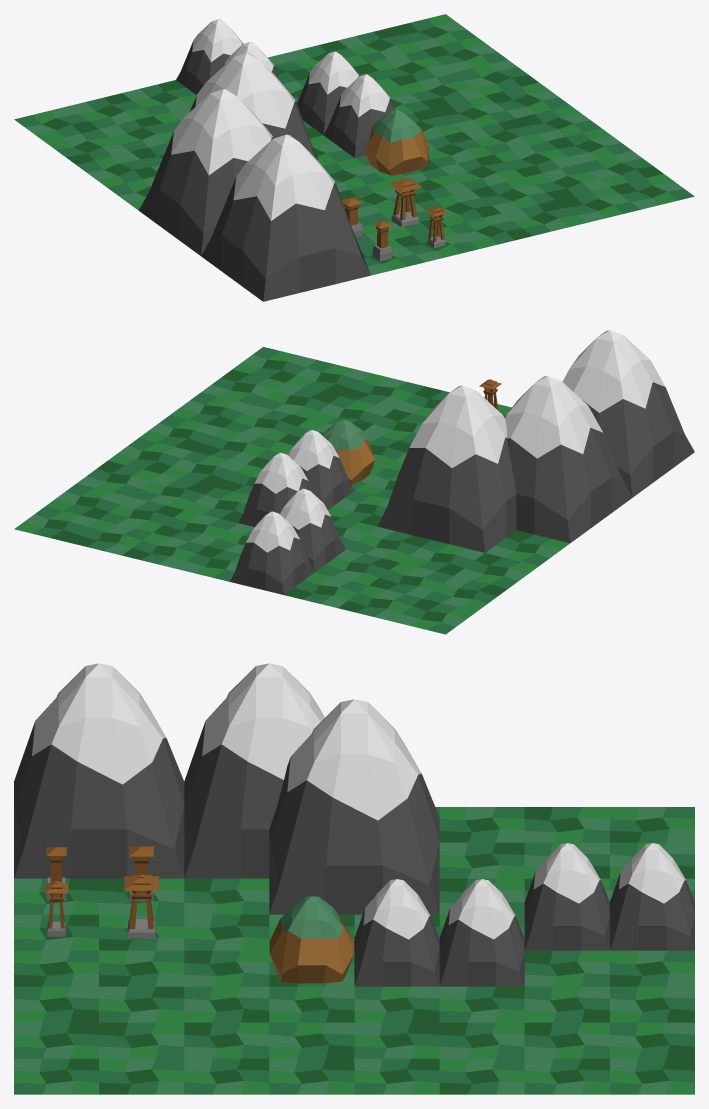
File: SizeReference.fbx
3 renders of one model, top to bottom at view 1: azimuth 30°, elevation 25°; view 2: azimuth 150°, elevation 25°; view 3: azimuth 270°, elevation 25°, orthographic. The views are drawn at different scales.
Visible parts, largest first — view 1: MountainTriple_4.004, MountainTriple_4.002, MountainTriple_4.003, Mountain_4.003, Boulder, Mountain_4.004, Mountain_4.006, GrassFlatMixed.046, GrassFlatMixed.053, GrassFlatMixed.059, GrassFlatMixed.028, GrassFlatMixed.035 (+43 smaller); view 2: MountainTriple_4.003, MountainTriple_4.002, MountainTriple_4.004, Mountain_4.006, Mountain_4.005, Mountain_4.003, Mountain_4.004, Boulder, GrassFlatMixed.062, GrassFlatMixed.020, GrassFlatMixed.029, GrassFlatMixed.030 (+38 smaller); view 3: MountainTriple_4.004, MountainTriple_4.003, MountainTriple_4.002, Mountain_4.005, Mountain_4.004, Mountain_4.003, Mountain_4.006, Boulder, GrassFlatMixed.035, GrassFlatMixed.061, GrassFlatMixed.062, GrassFlatMixed.010 (+41 smaller).
Part boxes in pixels (x1,y1,x2,y2): MountainTriple_4.004: [201, 134, 370, 301]; MountainTriple_4.002: [139, 89, 273, 255]; MountainTriple_4.003: [190, 53, 318, 161]; Mountain_4.003: [323, 74, 394, 157]; Boulder: [365, 109, 428, 175]; Mountain_4.004: [297, 51, 359, 134]; Mountain_4.006: [176, 19, 243, 94]; GrassFlatMixed.046: [338, 27, 422, 62]; GrassFlatMixed.053: [471, 177, 555, 212]; GrassFlatMixed.059: [548, 128, 632, 163]; GrassFlatMixed.028: [14, 106, 98, 141]; GrassFlatMixed.035: [485, 82, 569, 118]; MountainTriple_4.003: [377, 385, 516, 552]; MountainTriple_4.002: [505, 376, 632, 543]; MountainTriple_4.004: [562, 330, 694, 497]; Mountain_4.006: [230, 511, 314, 594]; Mountain_4.005: [280, 488, 345, 571]; Mountain_4.003: [288, 430, 354, 509]; Mountain_4.004: [238, 452, 313, 526]; Boulder: [323, 419, 374, 484]; GrassFlatMixed.062: [193, 428, 277, 464]; GrassFlatMixed.020: [454, 553, 538, 588]; GrassFlatMixed.029: [338, 585, 422, 621]; GrassFlatMixed.030: [284, 572, 368, 608]; MountainTriple_4.004: [14, 663, 184, 878]; MountainTriple_4.003: [269, 699, 439, 914]; MountainTriple_4.002: [184, 663, 324, 878]; Mountain_4.005: [524, 843, 609, 950]; Mountain_4.004: [439, 879, 524, 986]; Mountain_4.003: [354, 879, 439, 986]; Mountain_4.006: [610, 843, 694, 950]; Boulder: [269, 896, 354, 983]; GrassFlatMixed.035: [354, 1058, 439, 1094]; GrassFlatMixed.061: [269, 986, 354, 1022]; GrassFlatMixed.062: [269, 1022, 354, 1058]; GrassFlatMixed.010: [184, 878, 269, 914].
Size of the model in its own units: 800 by 246 by 800.
